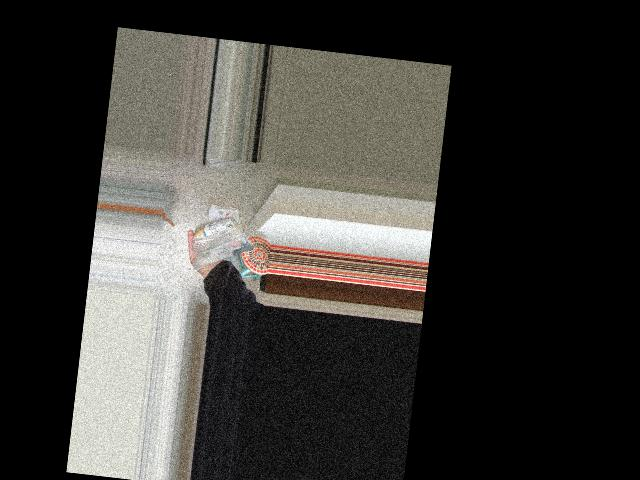cheese: (202, 198, 237, 264)
